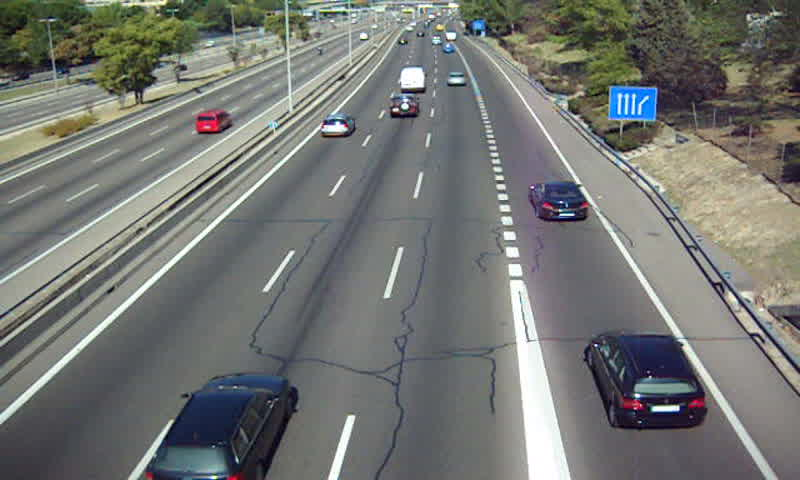car: (144, 374, 291, 480), (588, 331, 708, 429), (531, 180, 590, 220), (319, 114, 354, 139), (388, 92, 420, 116), (445, 71, 468, 87)
van: (399, 67, 426, 91)
